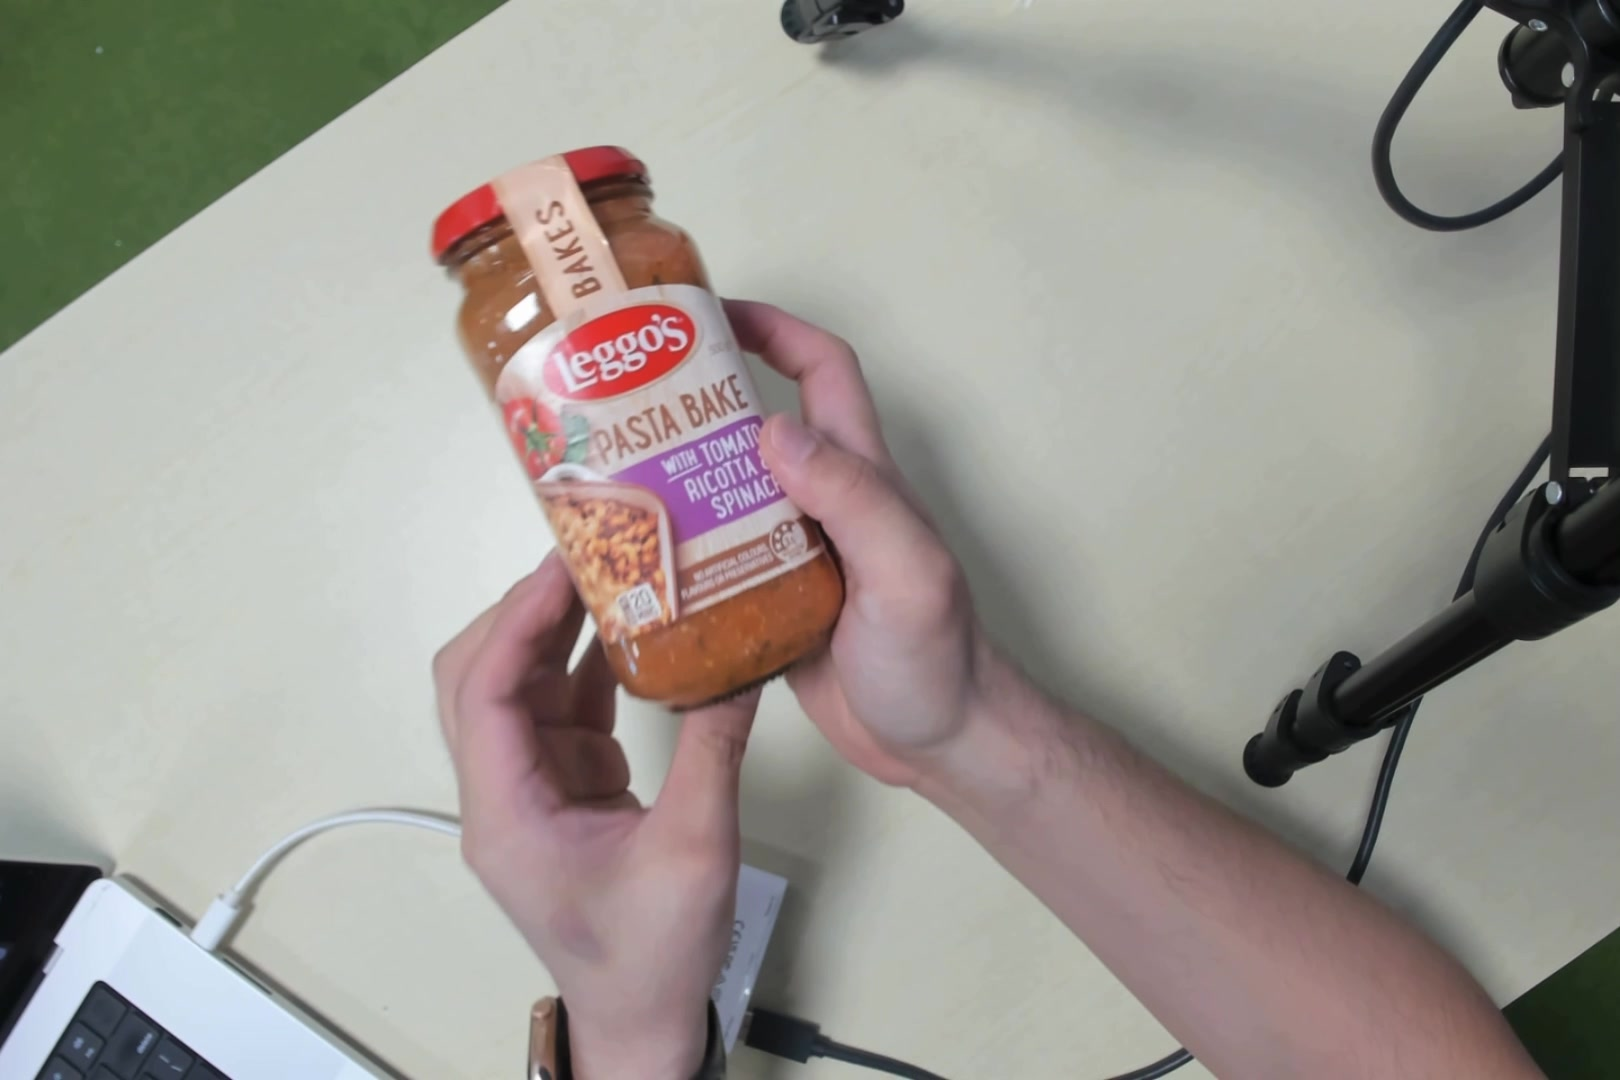Pasta_500-599g_Halal_NonHealthy: (495, 178, 812, 687)
